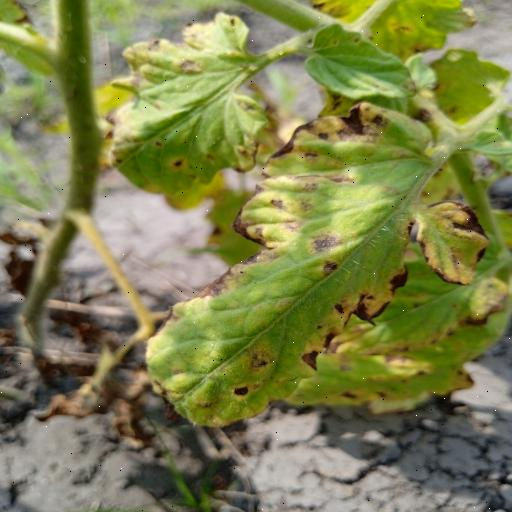Tomato_Brown_Spots: (142, 98, 494, 432)
